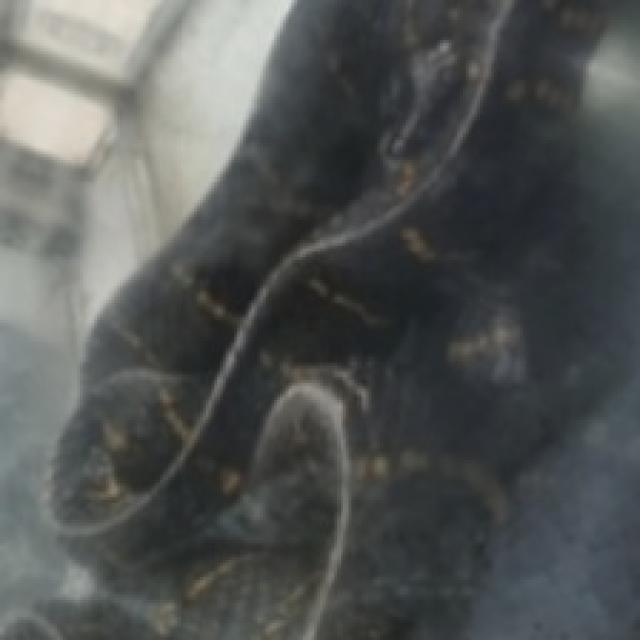mangrove cat snake: (14, 0, 604, 640)
